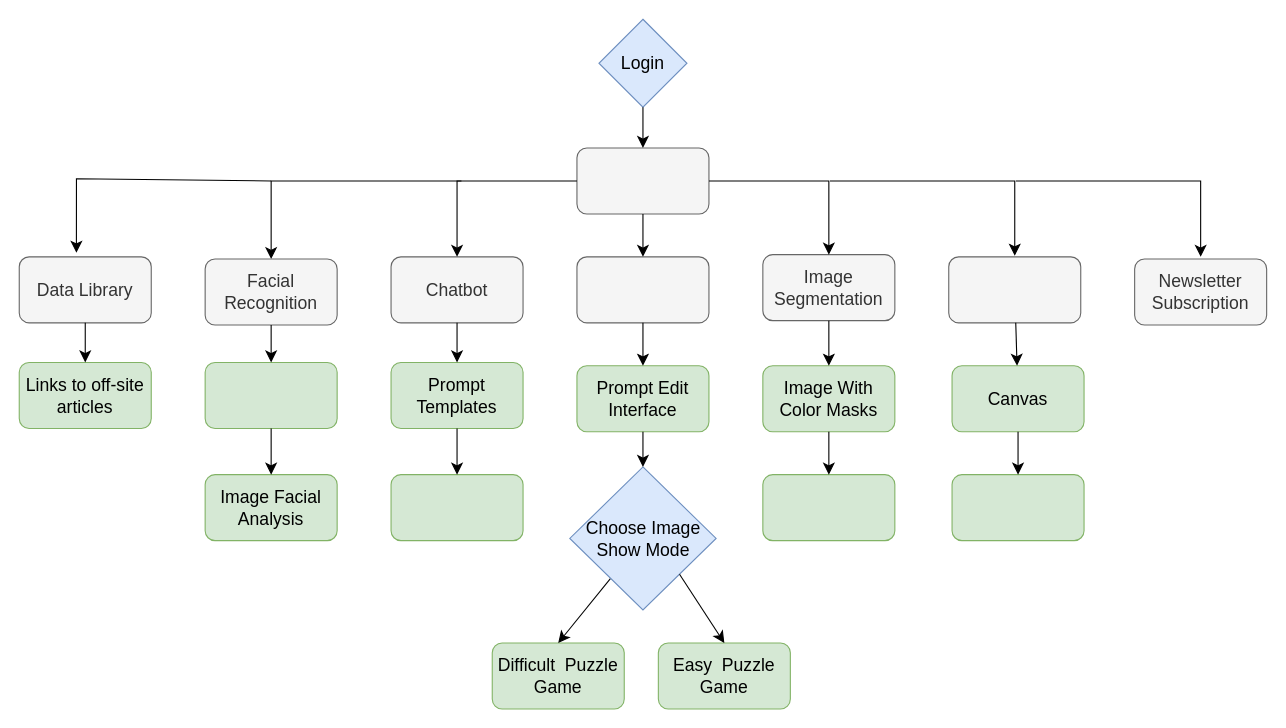
The diagram is 1286 pixels wide and 728 high, and some of its shapes have lost their labels. The shapes that lost their labels are listed below. From the top down, each one's box as (x1, y1, x2, y2) in pixels, then its label:
(576, 147, 709, 214): Home
(576, 256, 709, 323): Text-To-Image
(948, 256, 1081, 323): Image Classification
(204, 361, 337, 428): 3D Avatar
(390, 474, 523, 541): Chatbot Interface
(762, 474, 895, 541): Image Matting
(951, 474, 1084, 541): Sketch Guesser
